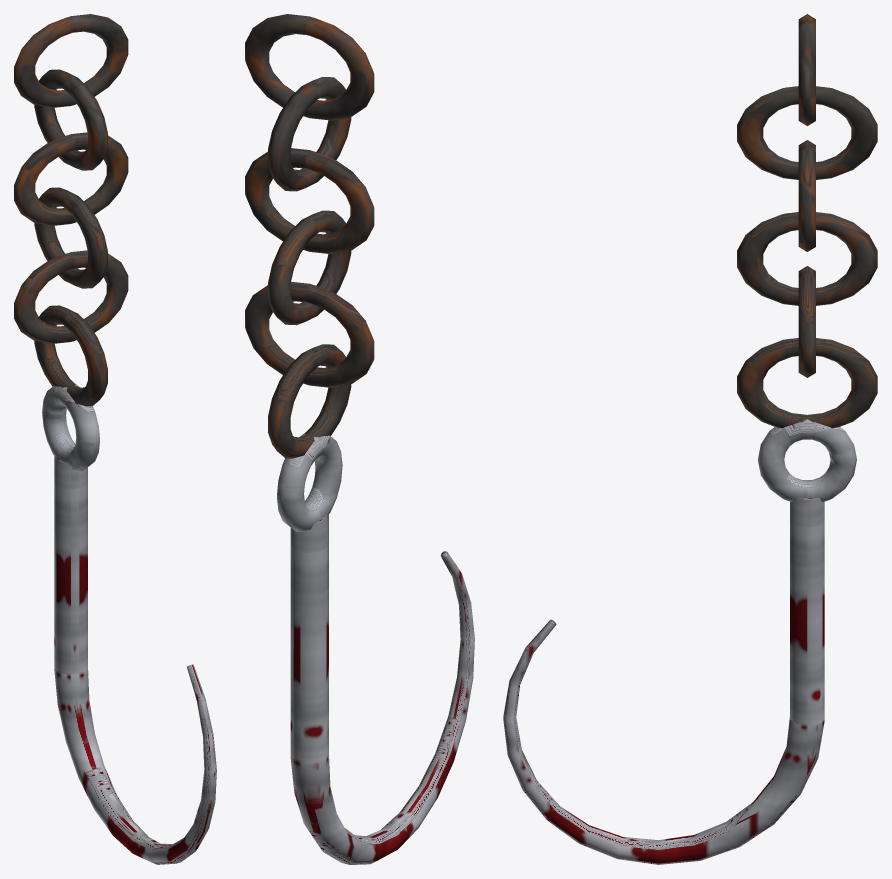
The model's file is 肉フック_meathook.glb.
The picture shows the model from 3 angles, left to right: view 1: azimuth 30°, elevation 25°; view 2: azimuth 150°, elevation 25°; view 3: azimuth 270°, elevation 25°; orthographic projection. The views are drawn at different scales.
Parts seen in each view (by area): view 1: meathook; view 2: meathook; view 3: meathook.
Boxes of the visible parts, bbox=[...] form: meathook: bbox=[14, 14, 216, 864]; meathook: bbox=[245, 14, 474, 864]; meathook: bbox=[503, 14, 877, 864].
Size of the model in its own units: 0.0425 by 0.2806 by 0.1132.
3 materials, 3 textured.
